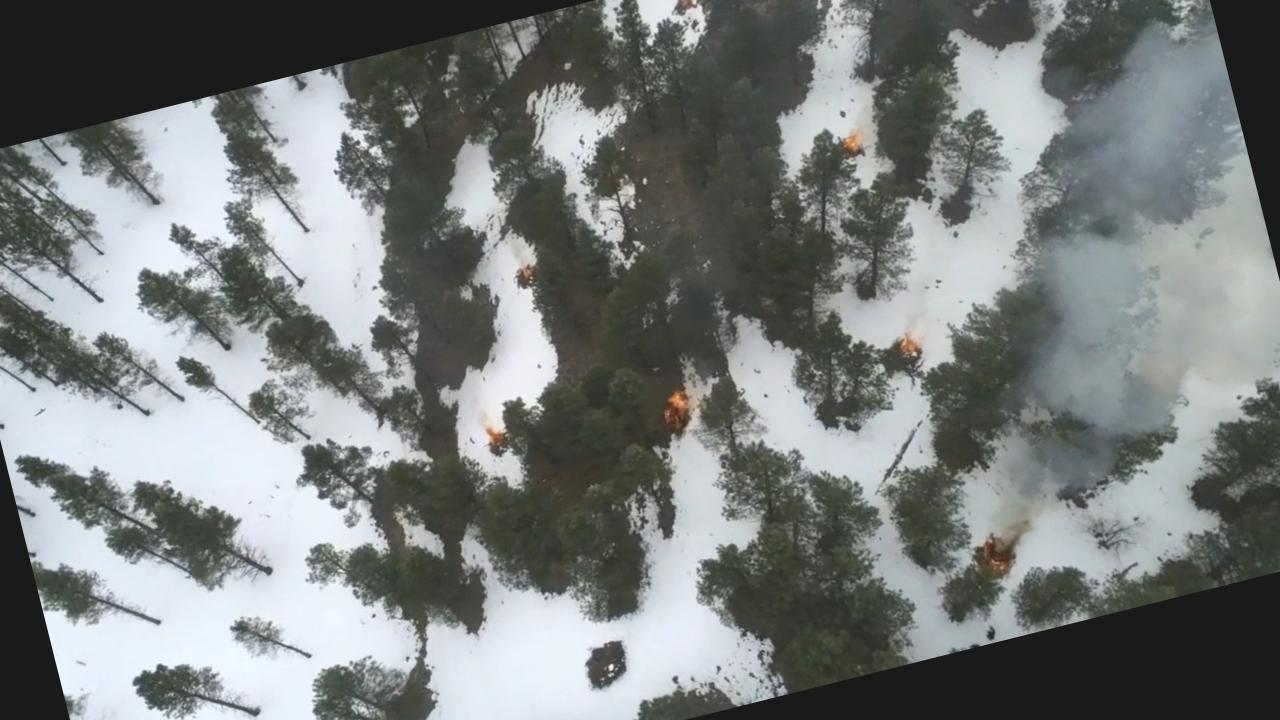fire: (972, 526, 1029, 584), (656, 382, 708, 444), (896, 332, 934, 372), (844, 125, 880, 163)
smoke: (1025, 222, 1280, 473), (1030, 29, 1264, 266)
